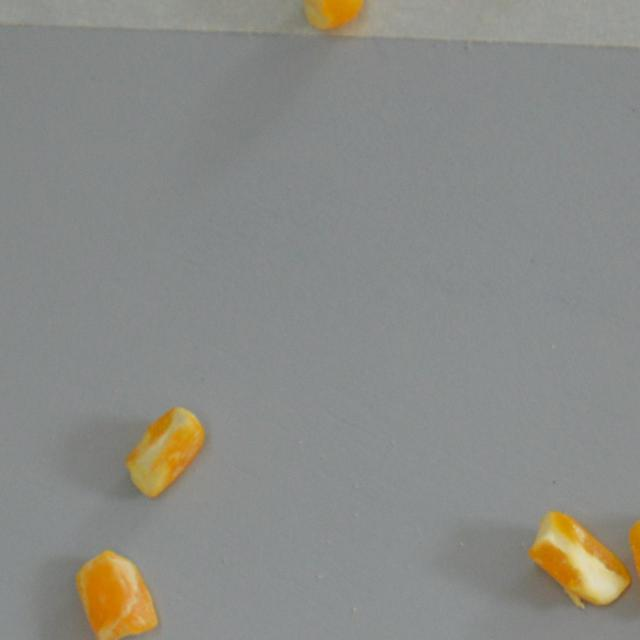pelicula: (523, 502, 634, 608), (116, 398, 212, 510), (68, 543, 166, 640), (620, 508, 640, 619)
